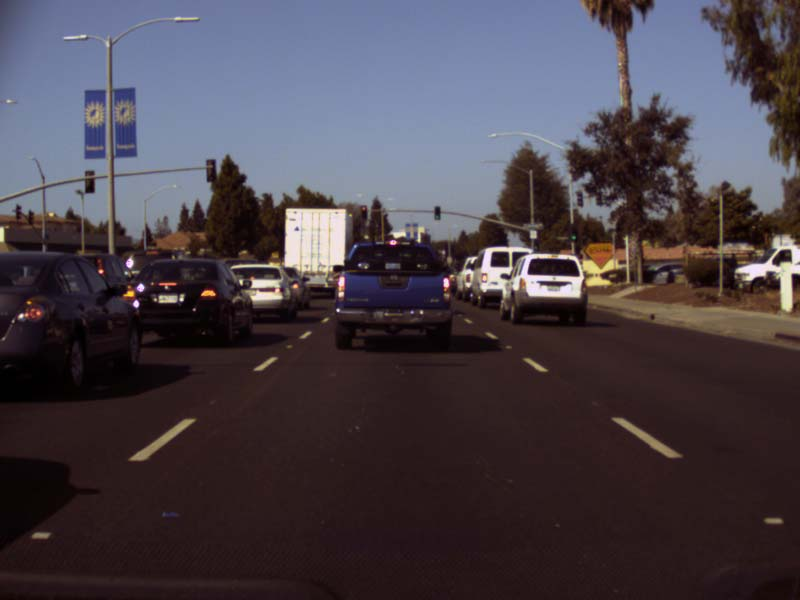Green: (568, 224, 579, 241), (433, 205, 440, 220), (533, 241, 538, 250)
Red: (360, 204, 366, 218)
